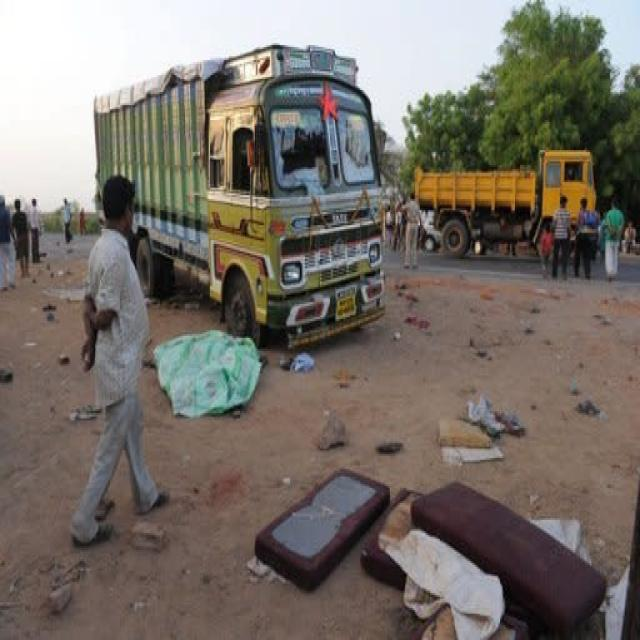accident: (95, 45, 384, 345)
truck: (415, 150, 596, 254)
